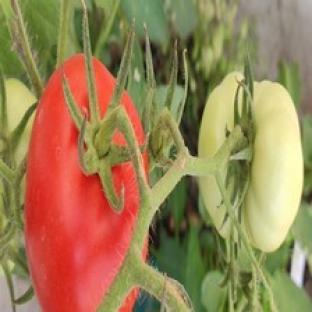Tomato: (26, 69, 139, 311), (241, 81, 303, 252), (5, 78, 36, 132)
